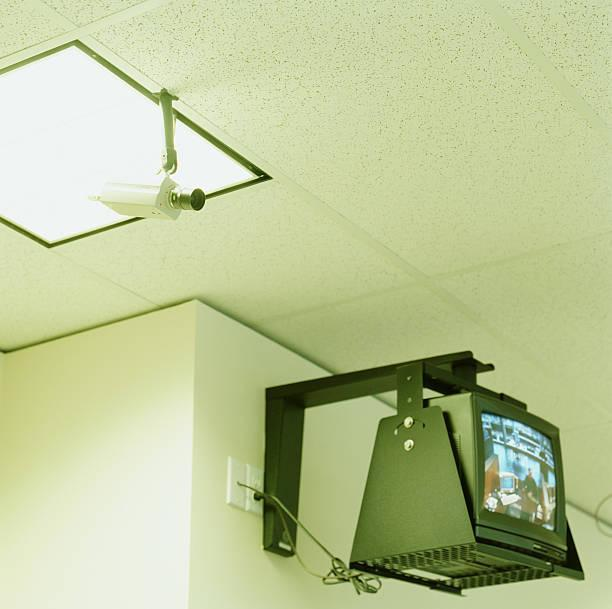camera: (85, 160, 225, 233)
